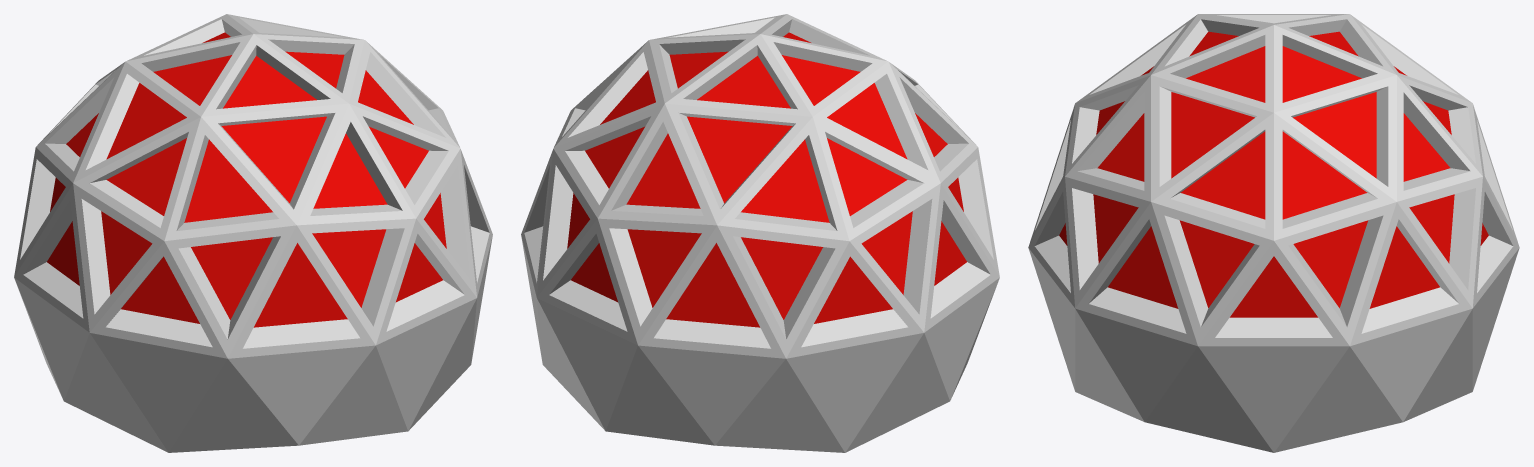
Rendered from Nexus1.fbx.
3 views of the same model, side by side, from view 1: azimuth 30°, elevation 25°; view 2: azimuth 150°, elevation 25°; view 3: azimuth 270°, elevation 25° (orthographic).
Parts seen in each view (by area): view 1: Icosphere; view 2: Icosphere; view 3: Icosphere.
Part boxes in pixels (x1,y1,x2,y2): Icosphere: [14, 14, 492, 452]; Icosphere: [521, 14, 999, 452]; Icosphere: [1028, 14, 1519, 452].
Size of the model in its own units: 190 by 153 by 200.
